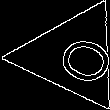O_NW: (35, 25, 109, 87)
